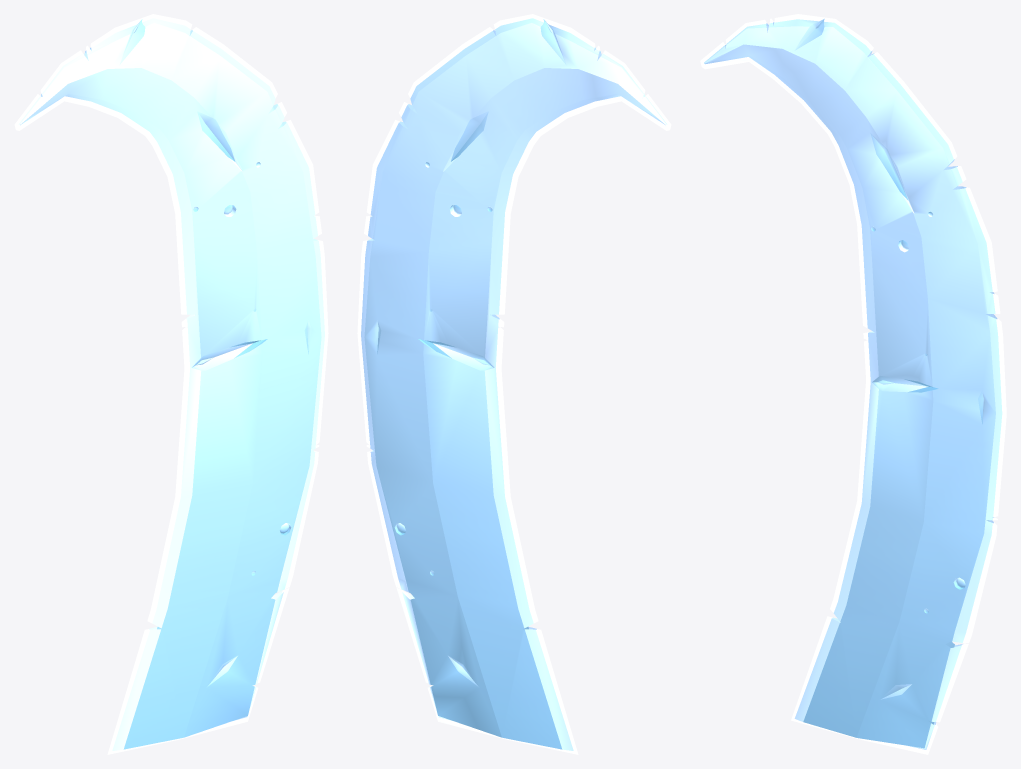
The model's file is steel_blade_bubbles_044.glb.
3 renders of one model, left to right at view 1: azimuth 30°, elevation 25°; view 2: azimuth 150°, elevation 25°; view 3: azimuth 330°, elevation 25°, orthographic. The views are drawn at different scales.
Visible parts, largest first — view 1: steel_blade_bubbles.044; view 2: steel_blade_bubbles.044; view 3: steel_blade_bubbles.044.
Part boxes in pixels (x1=…): steel_blade_bubbles.044: x1=14, y1=14, x2=328, y2=754; steel_blade_bubbles.044: x1=357, y1=14, x2=671, y2=754; steel_blade_bubbles.044: x1=700, y1=14, x2=1006, y2=754.
Bounding box in the file's own units: 4.65 × 10.35 × 0.241.
Materials: 1 (1 with a texture image).
